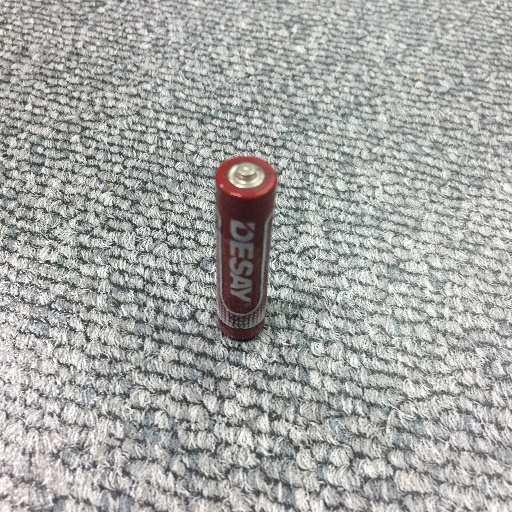Battery_0: (202, 142, 281, 354)
